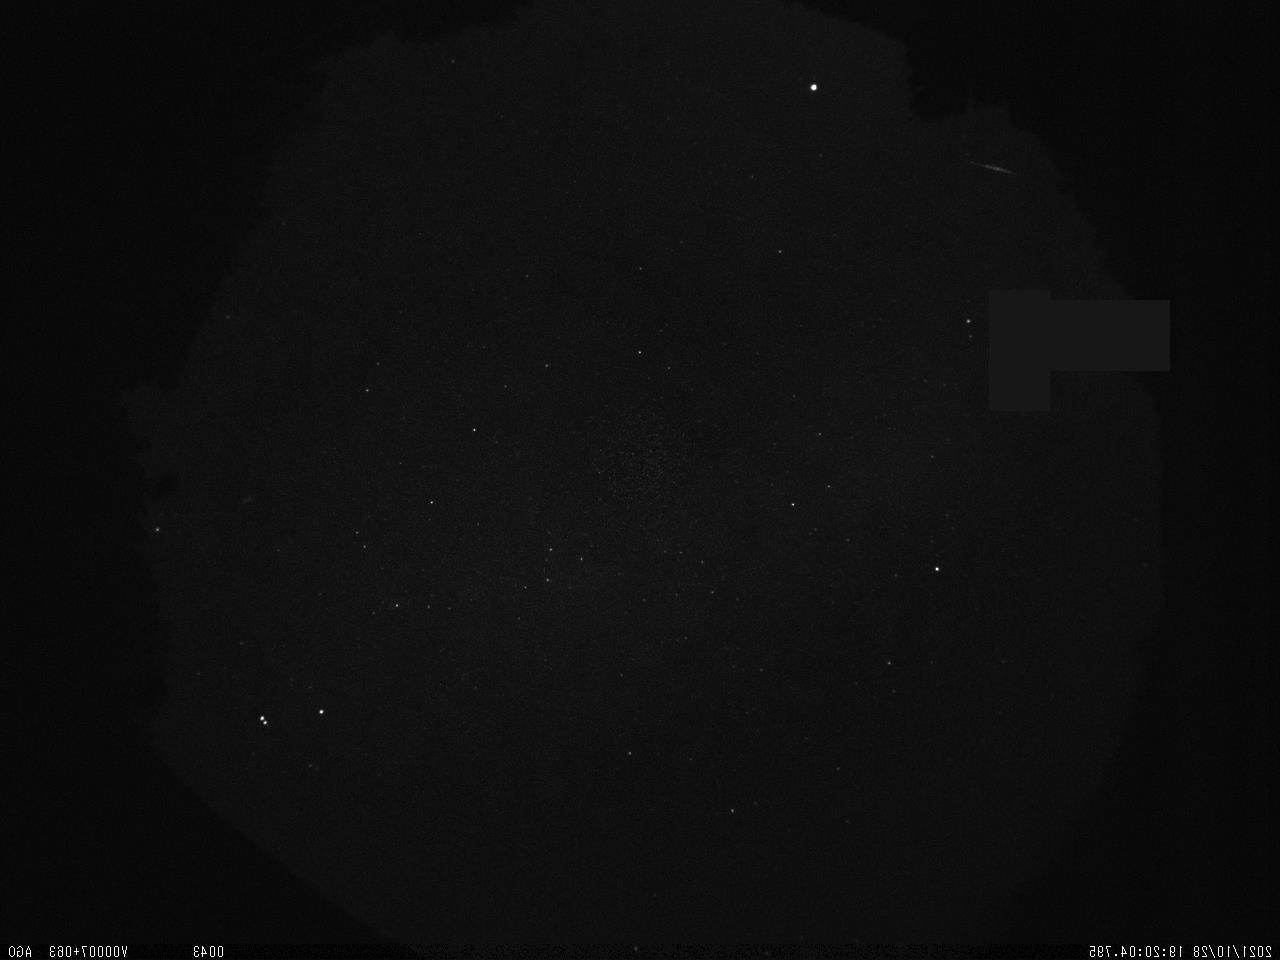meteor: (876, 144, 1021, 216)
